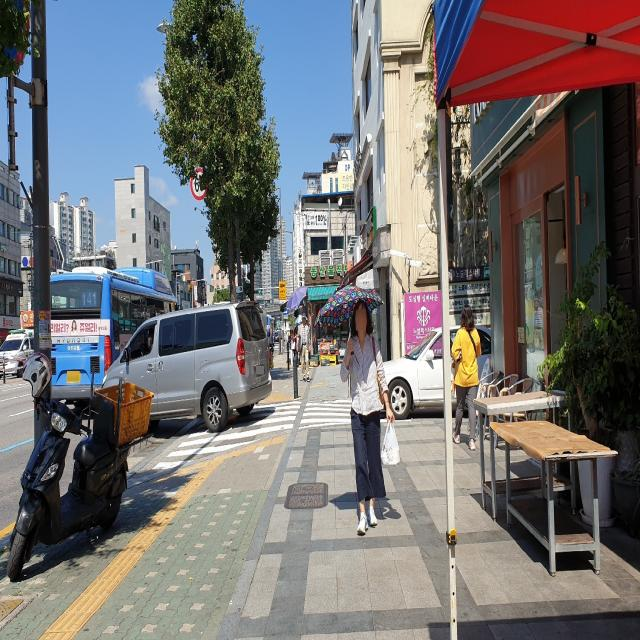횡단보도: (150, 398, 412, 474)
